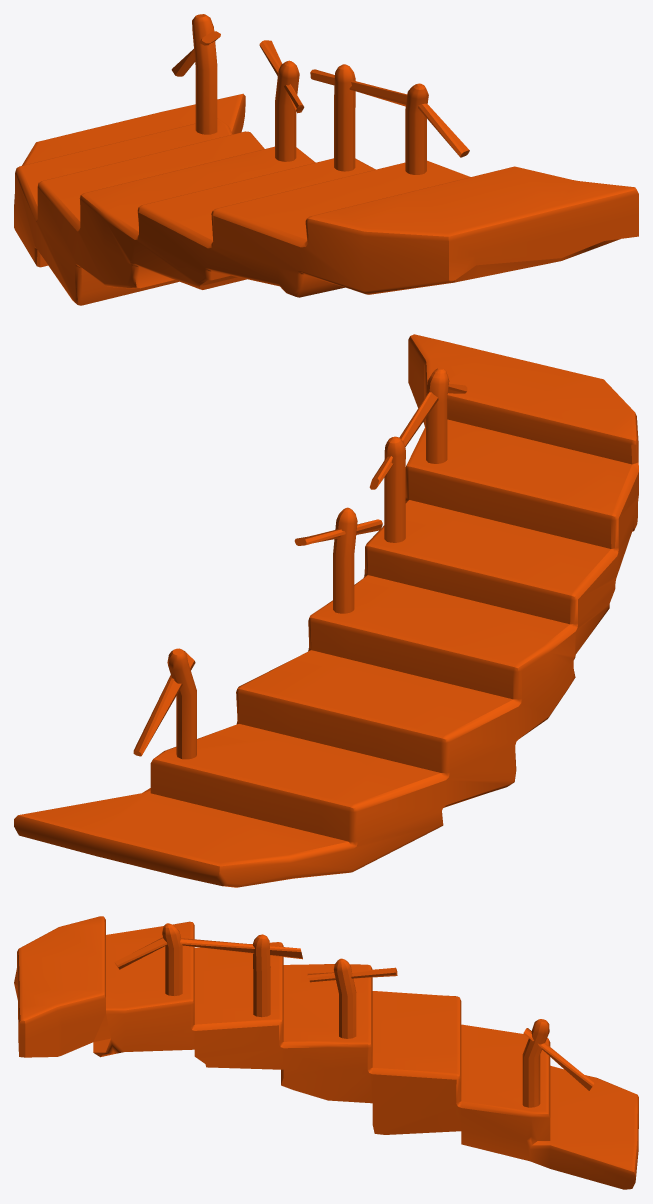
File: Platform_Stairs_Two.fbx
3 views of the same model, one above another, from view 1: azimuth 30°, elevation 25°; view 2: azimuth 150°, elevation 25°; view 3: azimuth 270°, elevation 25° (orthographic). The views are drawn at different scales.
Visible parts, largest first — view 1: planarTrimmedSurface1, pCylinder4, pCylinder2, pCylinder1, pCylinder3, pCube2, pCube4, pCube1, pCube3; view 2: planarTrimmedSurface1, pCylinder4, pCylinder1, pCylinder2, pCylinder3, pCube3, pCube2; view 3: planarTrimmedSurface1, pCylinder4, pCylinder2, pCylinder1, pCylinder3, pCube2, pCube3, pCube1, pCube4.
Boxes of the visible parts, x1,y1,x2,y2 form: planarTrimmedSurface1: [14, 93, 638, 305]; pCylinder4: [192, 14, 217, 134]; pCylinder2: [334, 64, 355, 171]; pCylinder1: [275, 60, 299, 161]; pCylinder3: [405, 83, 428, 174]; pCube2: [310, 69, 407, 106]; pCube4: [418, 103, 469, 157]; pCube1: [259, 40, 304, 113]; pCube3: [171, 31, 220, 76]; planarTrimmedSurface1: [14, 334, 638, 887]; pCylinder4: [167, 648, 196, 759]; pCylinder1: [333, 507, 357, 613]; pCylinder2: [384, 436, 405, 542]; pCylinder3: [426, 367, 449, 463]; pCube3: [133, 652, 195, 756]; pCube2: [369, 392, 438, 489]; planarTrimmedSurface1: [14, 916, 638, 1189]; pCylinder4: [522, 1019, 549, 1107]; pCylinder2: [253, 934, 270, 1017]; pCylinder1: [333, 958, 356, 1038]; pCylinder3: [162, 923, 182, 995]; pCube2: [180, 938, 302, 959]; pCube3: [523, 1028, 593, 1090]; pCube1: [307, 967, 397, 982]; pCube4: [114, 937, 167, 969].
Bounding box in the file's own units: 1.88 × 1.53 × 3.87.
